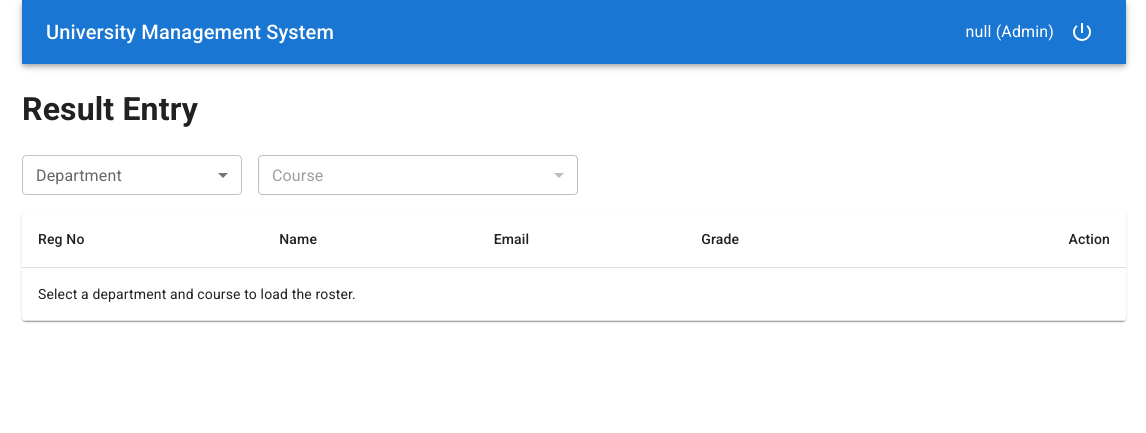
ResultEntryPage › loads roster after Department + Course are selected
Step 1. Click the 1st dropdown named "department" → [132, 175], box [22,155,242,195]
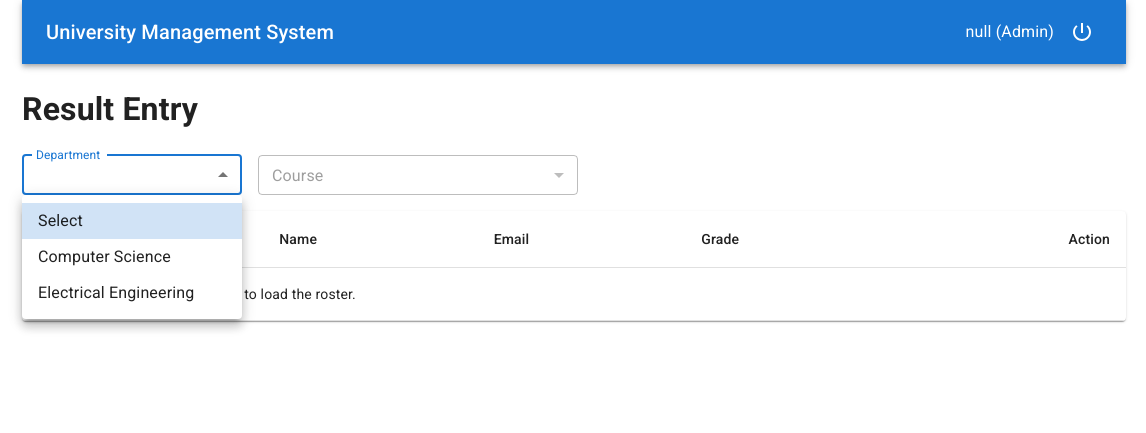
Step 2. Click the option "Computer Science" → [104, 256], box [38,247,171,266]
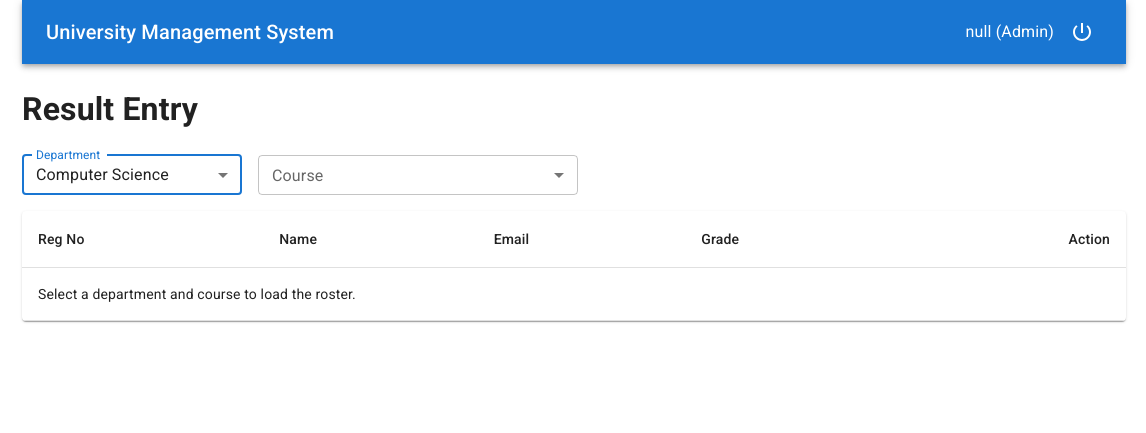
Step 3. Click the dropdown named "course" → [418, 175], box [258,155,578,195]
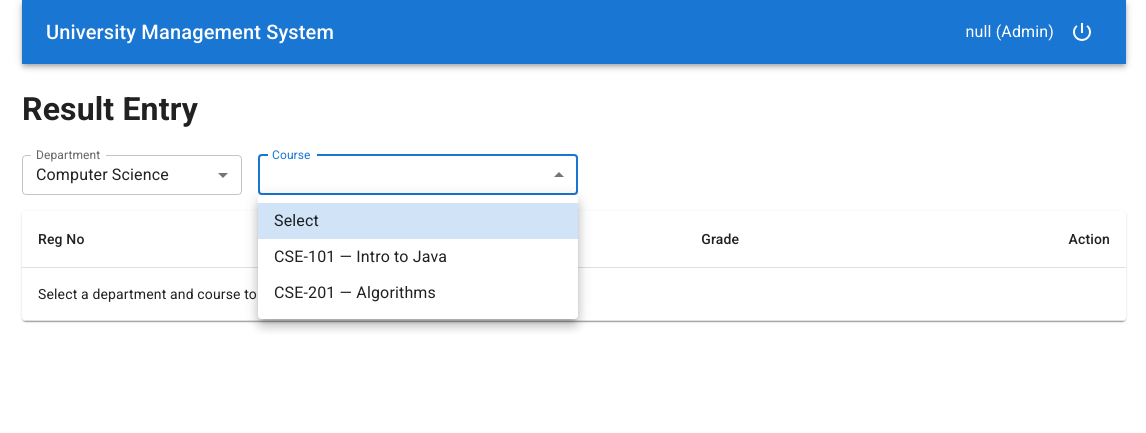
Step 4. Click the option "CSE-101 — Intro to Java" → [360, 256], box [274,247,447,266]
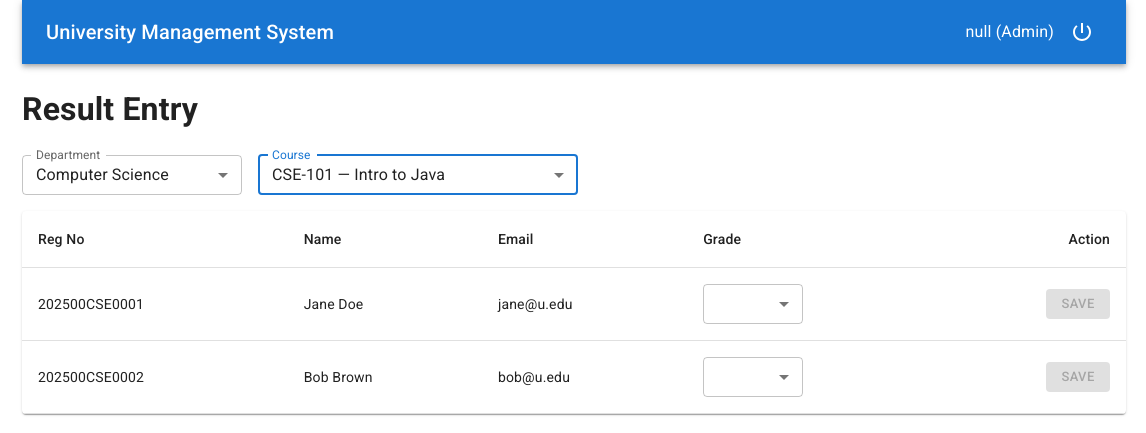
Expected: the text "Jane Doe" is shown, [288,267,482,340]
Expected: the text "Bob Brown" is shown, [288,340,482,413]
